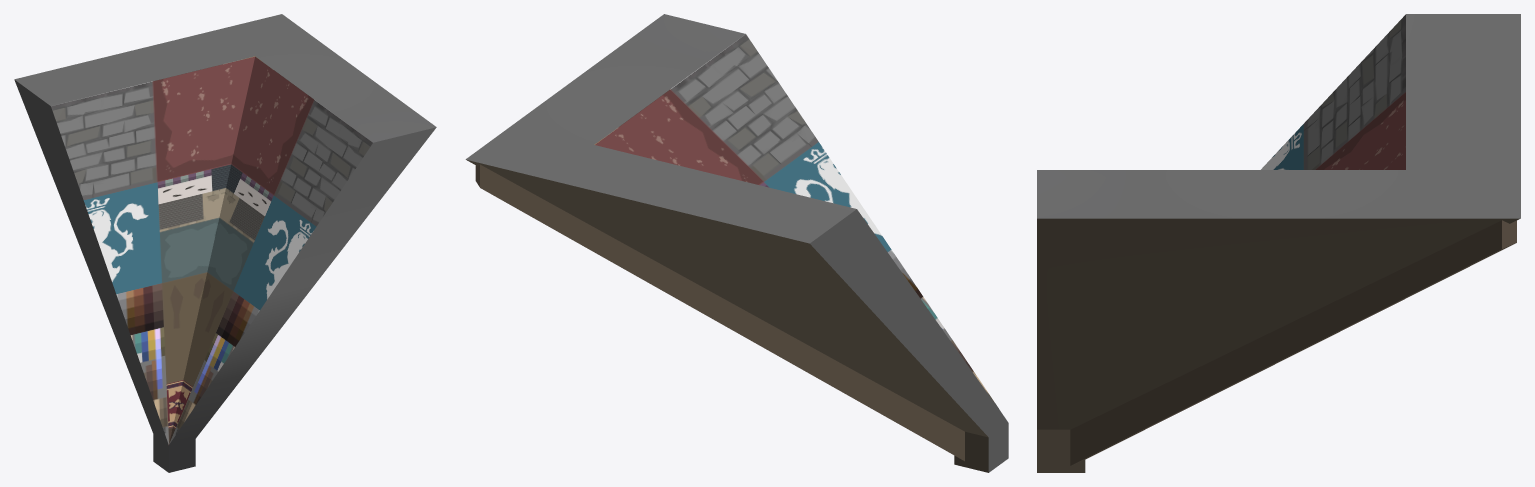
The model's file is kingdom_SM_Bld_Castle_Roof_L_Corner_Inner_01.gltf.
The picture shows the model from 3 angles, left to right: view 1: azimuth 30°, elevation 25°; view 2: azimuth 150°, elevation 25°; view 3: azimuth 270°, elevation 25°; orthographic projection. The views are drawn at different scales.
Visible parts, largest first — view 1: SM_Bld_Castle_Roof_L_Corner_Inner_01; view 2: SM_Bld_Castle_Roof_L_Corner_Inner_01; view 3: SM_Bld_Castle_Roof_L_Corner_Inner_01.
Boxes of the visible parts, x1,y1,x2,y2 form: SM_Bld_Castle_Roof_L_Corner_Inner_01: [14, 14, 436, 472]; SM_Bld_Castle_Roof_L_Corner_Inner_01: [465, 14, 1008, 472]; SM_Bld_Castle_Roof_L_Corner_Inner_01: [1037, 14, 1520, 472].
Bounding box in the file's own units: 5 × 5 × 5.
2 materials, 2 textured.
